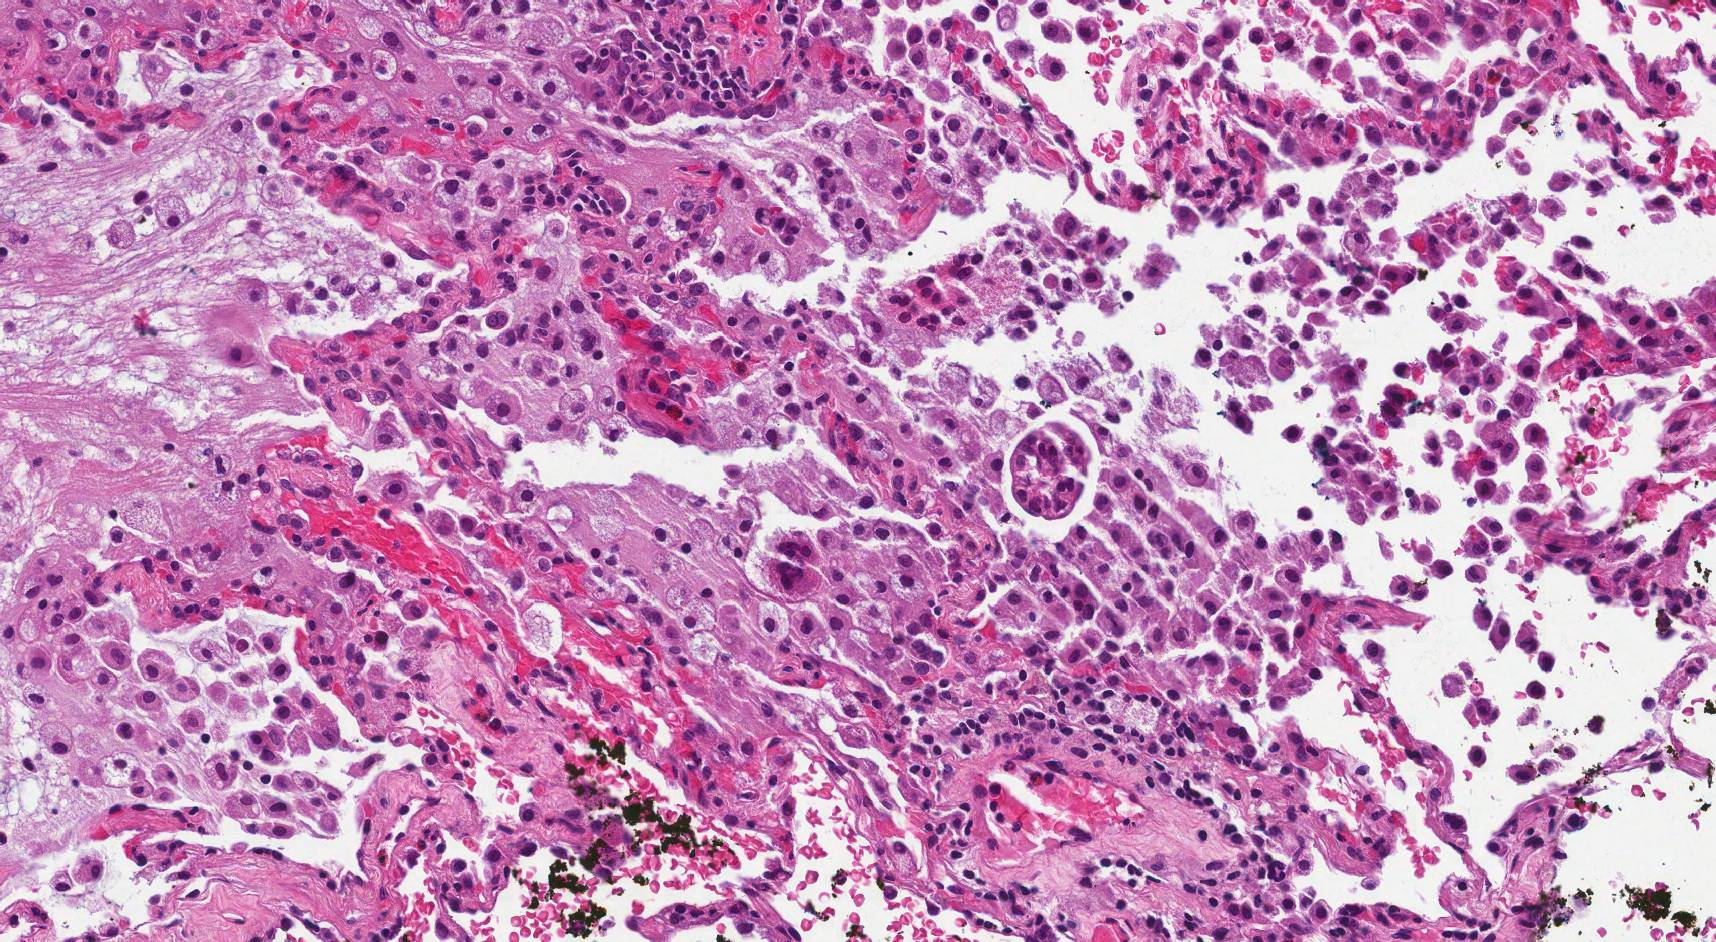stas: (1008, 424, 1093, 522)
